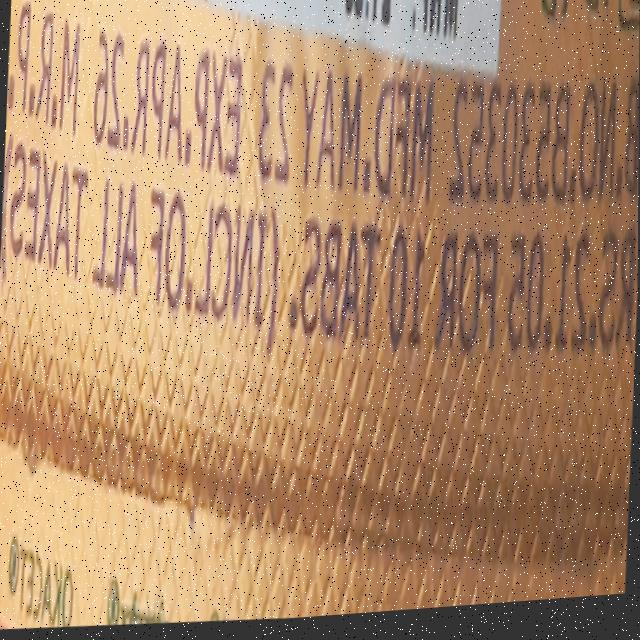sentence: (7, 0, 639, 216), (0, 140, 435, 364), (506, 232, 637, 363), (433, 235, 504, 366)
